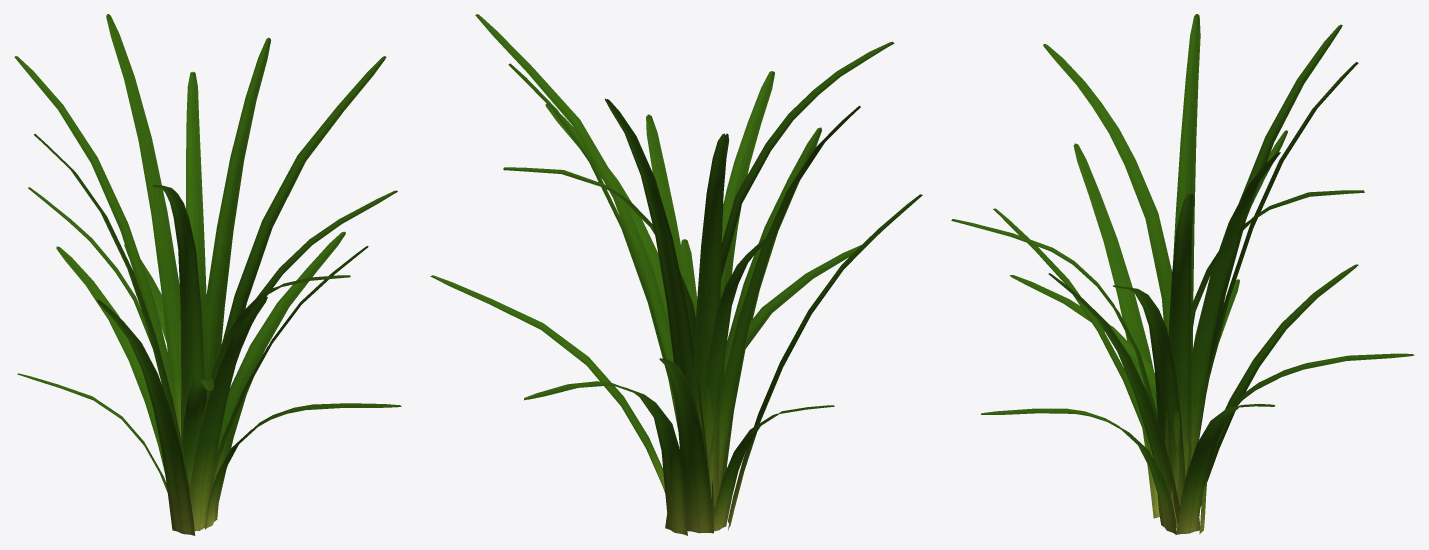
File: marine_plant.glb
3 views of the same model, side by side, from view 1: azimuth 30°, elevation 25°; view 2: azimuth 150°, elevation 25°; view 3: azimuth 270°, elevation 25° (orthographic). The views are drawn at different scales.
Parts seen in each view (by area): view 1: plant; view 2: plant; view 3: plant.
Part boxes in pixels (x1=…): plant: x1=14, y1=14, x2=401, y2=535; plant: x1=430, y1=14, x2=922, y2=535; plant: x1=951, y1=14, x2=1414, y2=534.
Bounding box in the file's own units: 11.95 × 14.6 × 13.27.
Materials: 1 (1 with a texture image).
